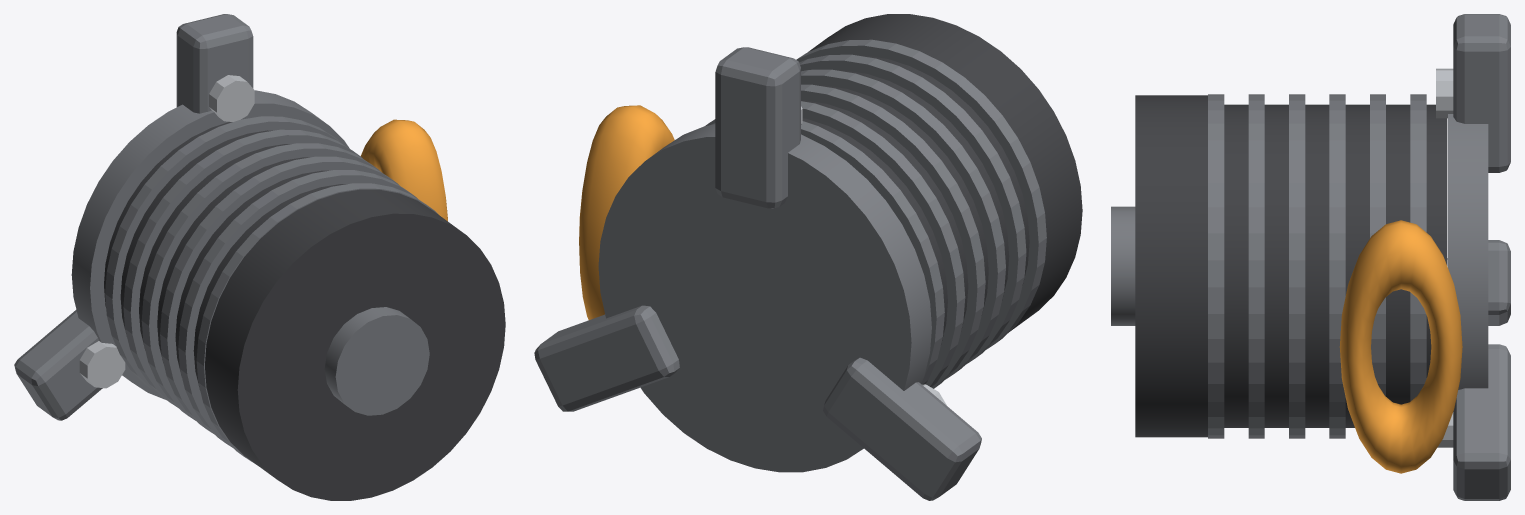
The picture shows the model from 3 angles, left to right: view 1: azimuth 30°, elevation 25°; view 2: azimuth 150°, elevation 25°; view 3: azimuth 270°, elevation 25°; orthographic projection. The views are drawn at different scales.
Visible parts, largest first — view 1: M_bell, M_flange, M_cap, M_barrel, M_rib.003, M_rib.002, M_rib.001, M_rib.004, M_rib, M_lug, M_lug.001, M_dampring (+3 smaller); view 2: M_flange, M_bell, M_lug.001, M_lug, M_lug.002, M_barrel, M_dampring, M_rib.005, M_rib.004, M_rib.003, M_rib.002, M_rib.001 (+1 smaller); view 3: M_barrel, M_bell, M_dampring, M_flange, M_lug, M_lug.002, M_rib.003, M_rib.004, M_rib.005, M_rib.002, M_rib, M_rib.001 (+3 smaller).
Boxes of the visible parts, x1,y1,x2,y2 form: M_bell: (205,189,505,500); M_flange: (71,90,349,399); M_cap: (324,307,429,415); M_barrel: (104,122,347,389); M_rib.003: (160,156,399,434); M_rib.002: (141,143,380,420); M_rib.001: (123,129,362,407); M_rib.004: (178,170,417,447); M_rib: (105,116,344,394); M_lug: (176,14,253,113); M_lug.001: (14,309,102,420); M_dampring: (361,119,447,221); M_flange: (598,124,931,472); M_bell: (808,14,1082,331); M_lug.001: (823,357,981,500); M_lug: (715,47,800,208); M_lug.002: (534,305,679,411); M_barrel: (801,55,1029,344); M_dampring: (579,105,674,319); M_rib.005: (796,39,1046,349); M_rib.004: (799,54,1026,364); M_rib.003: (801,69,1005,379); M_rib.002: (801,84,985,388); M_rib.001: (705,101,965,387); M_barrel: (1224,104,1447,427); M_bell: (1135,95,1207,437); M_dampring: (1339,220,1462,473); M_flange: (1448,114,1488,389); M_lug: (1453,14,1510,172); M_lug.002: (1453,344,1510,500); M_rib.003: (1289,94,1305,438); M_rib.004: (1248,94,1264,438); M_rib.005: (1208,94,1224,438); M_rib.002: (1329,94,1345,438); M_rib: (1410,94,1426,401); M_rib.001: (1370,94,1385,396).
Bounding box in the file's own units: 0.0423 × 0.0385 × 0.0346.
